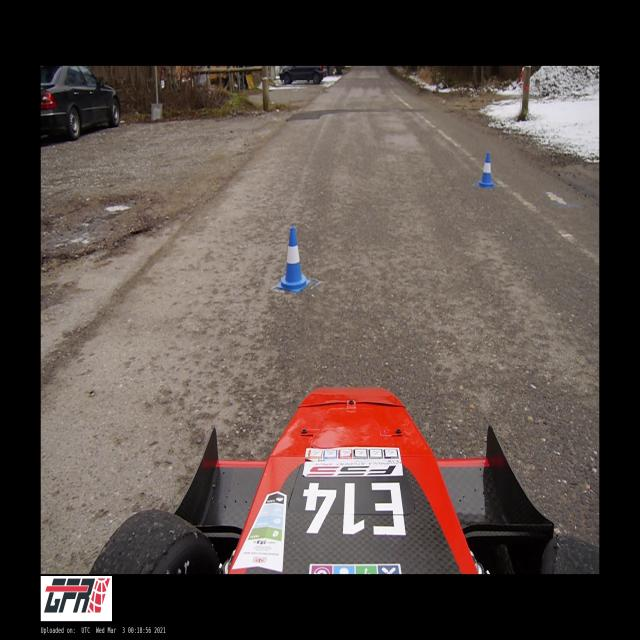blue_cone: (277, 228, 310, 292), (479, 153, 494, 187)
